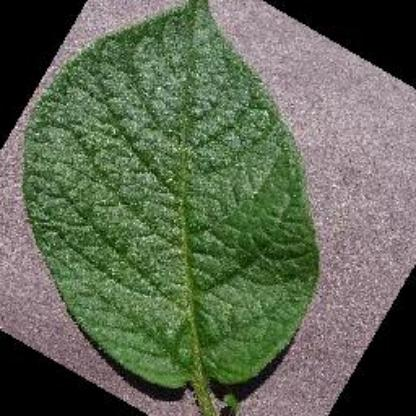Healthy-plant: (0, 3, 372, 411)
